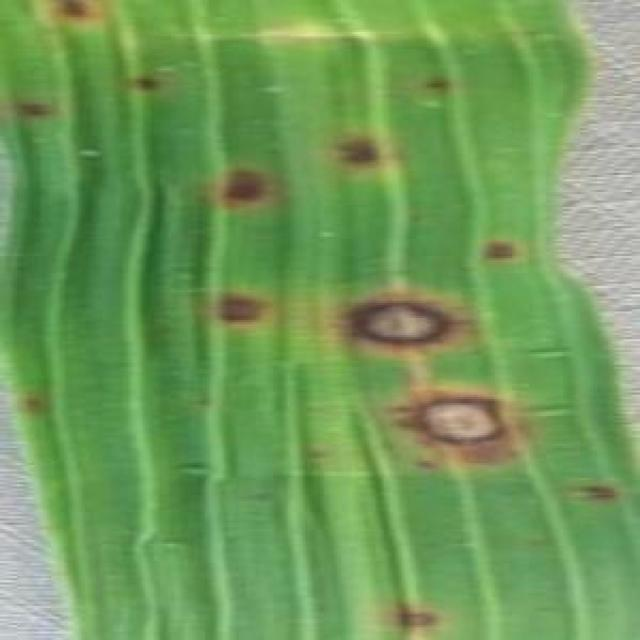Rice: (408, 384, 512, 462), (352, 278, 450, 358), (216, 156, 274, 213), (396, 603, 441, 640), (216, 286, 262, 321), (338, 136, 383, 169), (574, 474, 617, 506), (415, 71, 457, 103), (482, 232, 519, 265), (51, 0, 94, 28), (9, 98, 56, 123), (131, 72, 168, 98)
